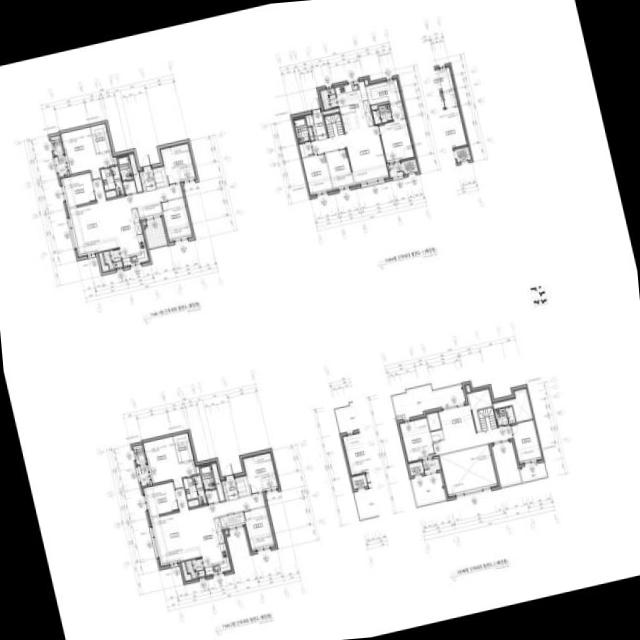background: (0, 0, 640, 640)
space_balconi: (393, 385, 465, 420), (411, 472, 446, 505), (144, 219, 167, 248), (520, 462, 546, 480), (185, 557, 205, 578), (103, 248, 123, 269), (319, 88, 338, 110), (137, 464, 150, 486), (422, 458, 440, 473), (55, 155, 67, 176), (388, 162, 403, 177)
space_bedroom: (143, 436, 196, 489), (60, 127, 114, 179), (378, 102, 415, 162), (160, 142, 196, 184), (400, 418, 435, 461), (243, 451, 278, 493), (161, 197, 193, 241), (243, 506, 275, 550), (511, 419, 542, 463), (302, 153, 333, 195), (61, 172, 96, 207), (143, 482, 178, 516), (325, 148, 354, 189)
space_dressroom: (366, 79, 402, 104), (90, 123, 111, 153), (173, 432, 193, 462)
space_front: (312, 112, 327, 140), (222, 476, 239, 500), (139, 169, 156, 191)
space_kitchen: (194, 517, 231, 575), (112, 208, 148, 266), (334, 81, 373, 132)
space_living_room: (150, 488, 266, 565), (68, 179, 183, 256), (311, 125, 389, 184), (433, 404, 513, 455)
space_other: (439, 444, 497, 496), (493, 388, 532, 422), (491, 442, 521, 486), (468, 389, 492, 431), (211, 463, 225, 501), (129, 153, 142, 192), (477, 406, 497, 431), (324, 113, 344, 137), (137, 202, 162, 219), (220, 512, 245, 529), (152, 166, 167, 187), (235, 475, 250, 496), (426, 412, 441, 430), (98, 252, 109, 272), (299, 142, 313, 157), (205, 489, 219, 504), (122, 180, 136, 194), (181, 561, 191, 580), (371, 101, 388, 110), (431, 429, 443, 441), (323, 108, 339, 115), (305, 113, 313, 126), (308, 127, 314, 140), (113, 156, 117, 164), (466, 385, 470, 392), (364, 79, 368, 85), (196, 465, 199, 473), (225, 530, 228, 534), (143, 221, 145, 225)
space_outdoor_room: (50, 135, 63, 155), (133, 444, 146, 464), (402, 158, 418, 174), (408, 461, 424, 476)
space_toilet: (100, 165, 124, 198), (183, 475, 206, 507), (293, 117, 310, 143), (199, 464, 215, 491), (494, 406, 515, 426), (117, 155, 133, 181), (372, 104, 392, 124)
